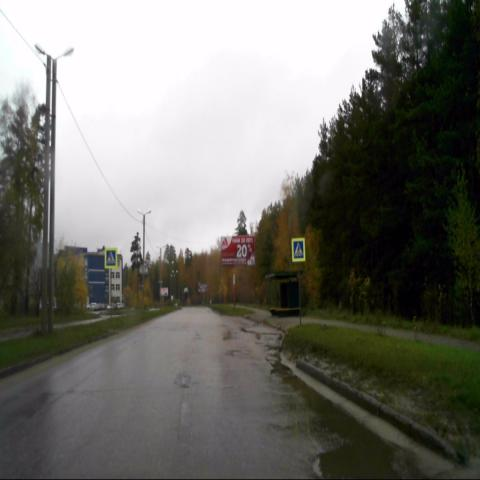5_19_1: (292, 237, 305, 262), (105, 247, 117, 268)
